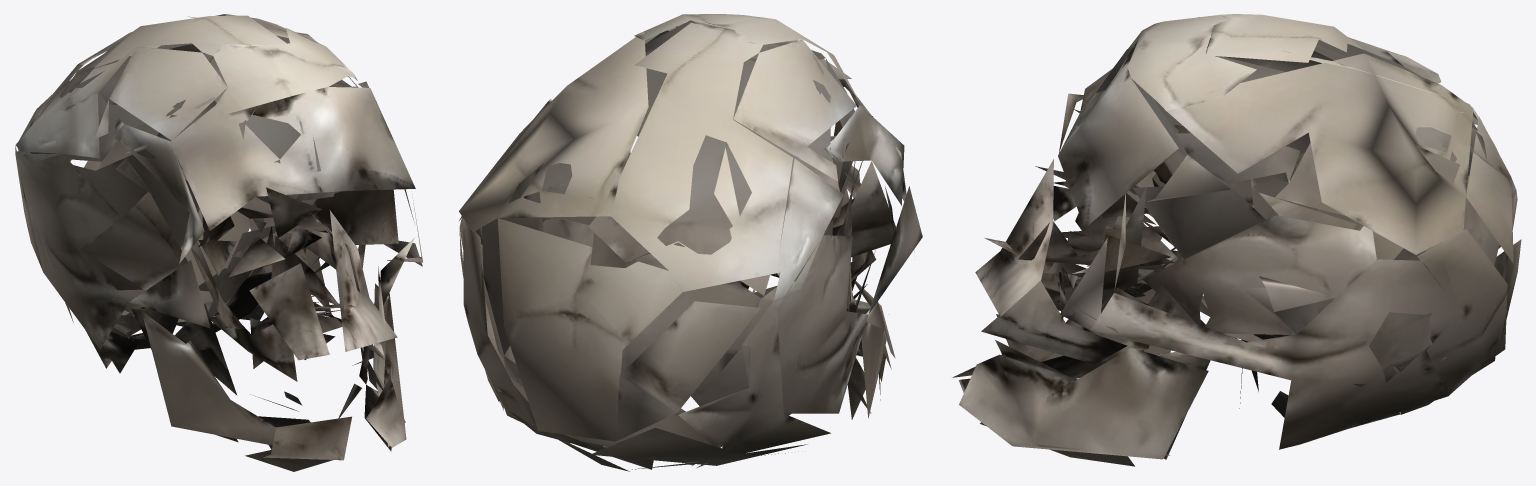
The model's file is dre_crypt_skull.glb.
3 views of the same model, side by side, from view 1: azimuth 30°, elevation 25°; view 2: azimuth 150°, elevation 25°; view 3: azimuth 270°, elevation 25° (orthographic). The views are drawn at different scales.
Size of the model in its own units: 0.1985 by 0.2279 by 0.3027.
1 material, 1 textured.
